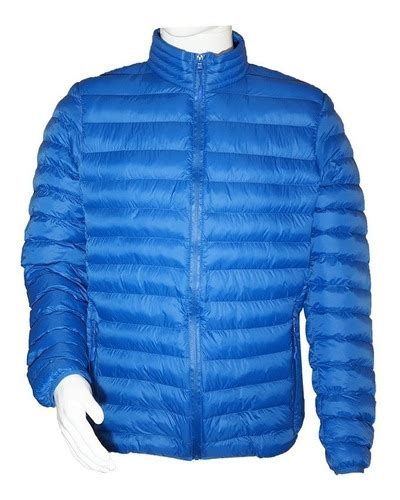nylon: (22, 29, 375, 474)
